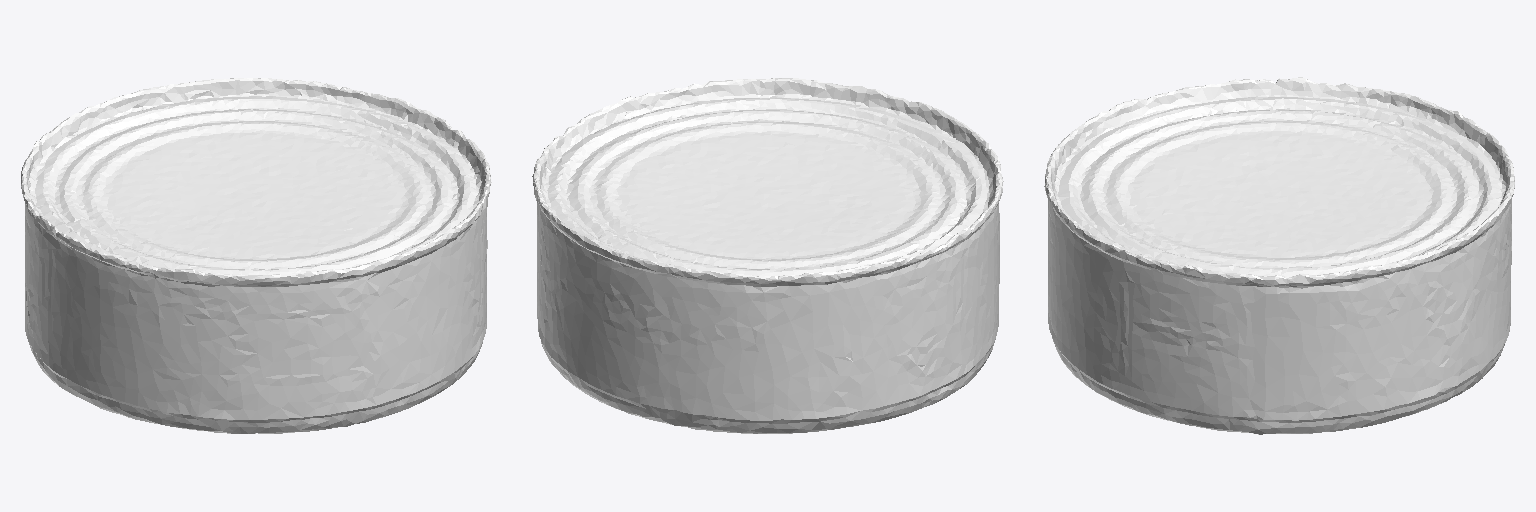
The robot description file, URDF, robot "007_tuna_fish_can":
<?xml version="1.0" ?>
<robot name="007_tuna_fish_can">
    <link name="baseLink">
        <contact>
        <friction_anchor/>
        <lateral_friction value="1.5"/>
        <rolling_friction value="0.1"/>
        <spinning_friction value="0.1"/>
        <contact_cfm value="1e-5"/>
        <contact_erp value="0.8"/>
        </contact>
        <visual>
            <origin rpy="0 0 0" xyz="0 0 0"/>
            <geometry>
                <mesh filename="assets/objects/007_tuna_fish_can/meshes/007_tuna_fish_can_textured.obj" scale="1 1 1"/>
            </geometry>
            <material name="white">
                <color rgba="1 1 1 1"/>
            </material>
        </visual>
        <collision>
            <origin rpy="0 0 0" xyz="0 0 0"/>
            <geometry>
                <mesh filename="assets/objects/007_tuna_fish_can/meshes/007_tuna_fish_can_textured.obj" scale="1 1 1"/>
            </geometry>
        </collision>
        <inertial>
            <origin rpy="0 0 0" xyz="0 0 0"/>
            <mass value="1.0"/>
            <inertia ixx="0.1" ixy="0" ixz="0" iyy="0.1" iyz="0" izz="0.1"/>
        </inertial>
    </link>
</robot>

--- Facts derived from the render (not from the file) ---
Views: 3 orthographic renders of the robot side by side, from view 1: azimuth 30°, elevation 25°; view 2: azimuth 150°, elevation 25°; view 3: azimuth 270°, elevation 25°.
Model 007_tuna_fish_can with 1 links and 0 joints (none), rooted at baseLink, posed all joints at 0.
Visible links, largest first — view 1: baseLink; view 2: baseLink; view 3: baseLink.
Link boxes in pixels (bbox=[...]): baseLink: bbox=[21, 78, 491, 433]; baseLink: bbox=[532, 78, 1003, 433]; baseLink: bbox=[1044, 77, 1514, 434].
Bounding box of the posed robot: 0.0856 × 0.0855 × 0.0335 m (x, y, z).
1 mesh visuals loaded from 1 distinct referenced files (1 OBJ).
